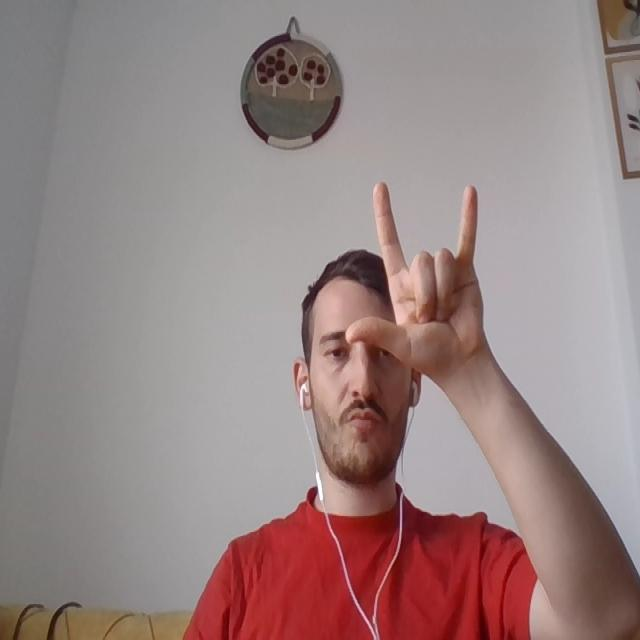i love you: (352, 188, 498, 376)
